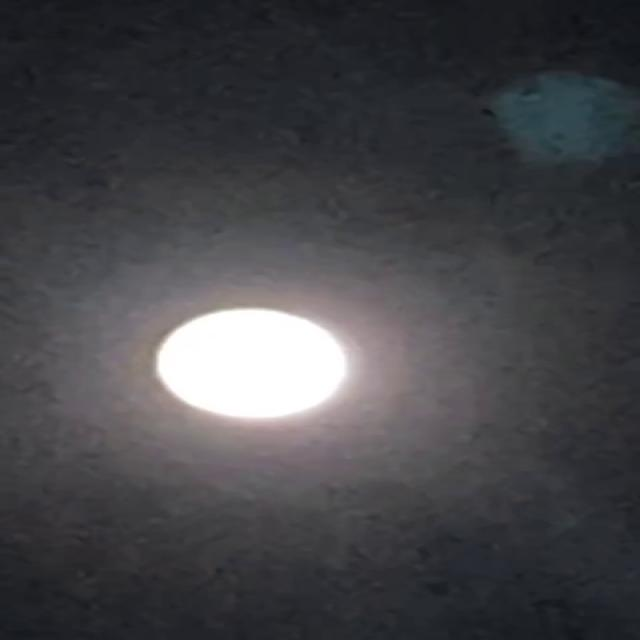moon: (156, 301, 351, 439)
